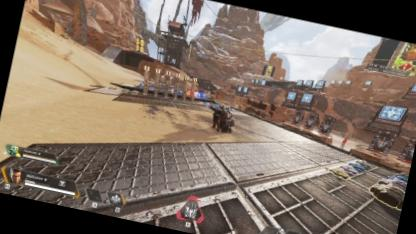Target: (208, 100, 238, 134)
